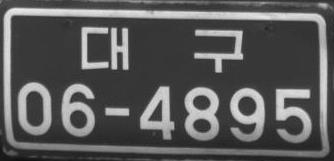0: (18, 80, 51, 135)
4: (138, 85, 175, 140)
5: (274, 87, 312, 144)
6: (61, 81, 95, 137)
8: (183, 86, 219, 141)
9: (230, 87, 264, 142)
대구_D: (81, 25, 244, 73)
